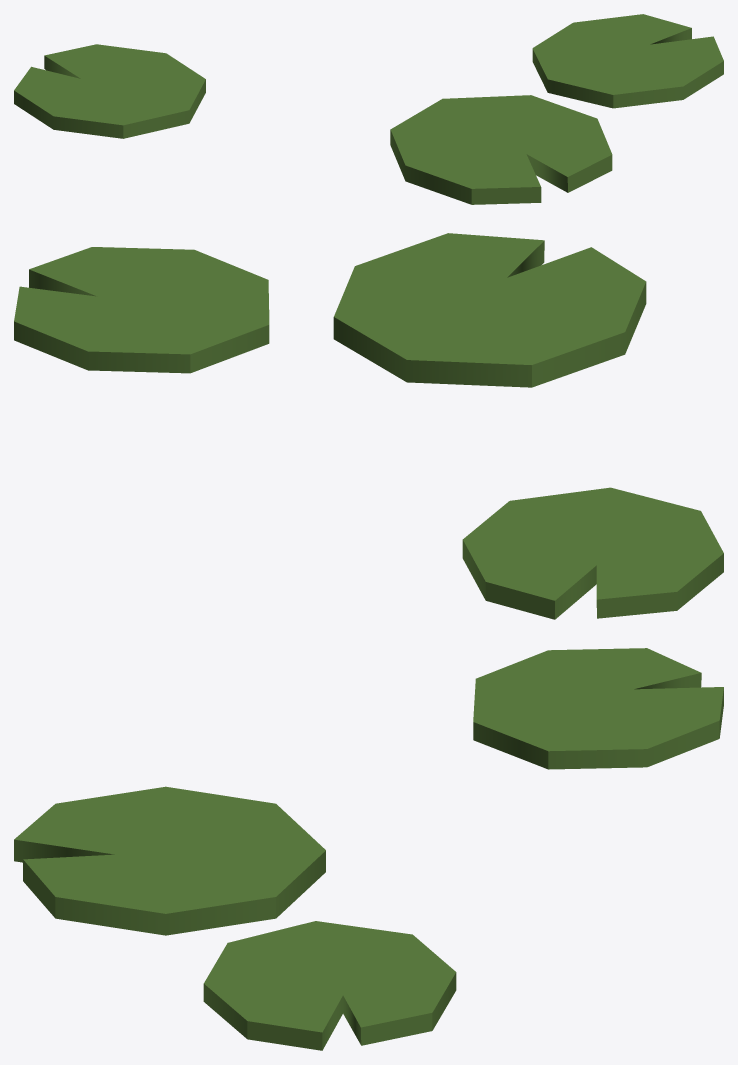
File: adventure_SM_Env_Lillypads_01.gltf
3 views of the same model, one above another, from view 1: azimuth 30°, elevation 25°; view 2: azimuth 150°, elevation 25°; view 3: azimuth 270°, elevation 25° (orthographic). The views are drawn at different scales.
Visible parts, largest first — view 1: SM_Env_Lillypads_01; view 2: SM_Env_Lillypads_01; view 3: SM_Env_Lillypads_01.
Boxes of the visible parts, bbox=[...] form: SM_Env_Lillypads_01: bbox=[14, 14, 723, 204]; SM_Env_Lillypads_01: bbox=[14, 233, 723, 619]; SM_Env_Lillypads_01: bbox=[14, 648, 723, 1050].
Size of the model in its own units: 0.8624 by 0.0227 by 0.6731.
1 material, 1 textured.
